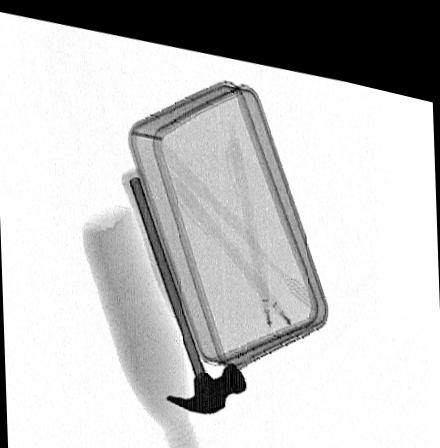Hammer: (118, 162, 247, 405)
